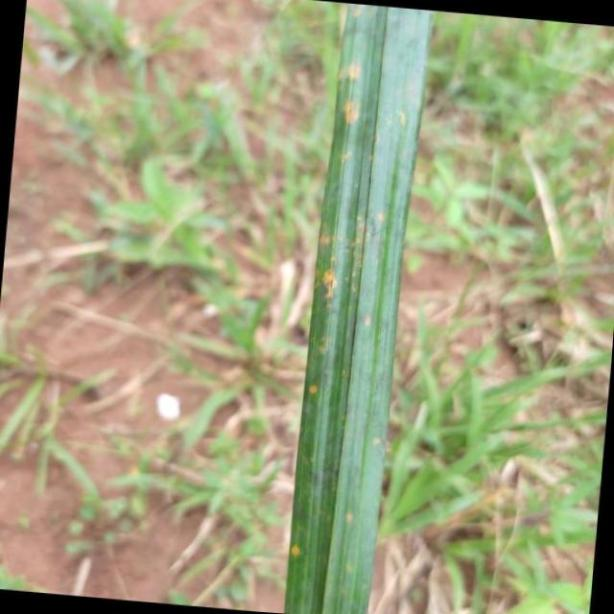Kalium: (283, 0, 432, 614)
